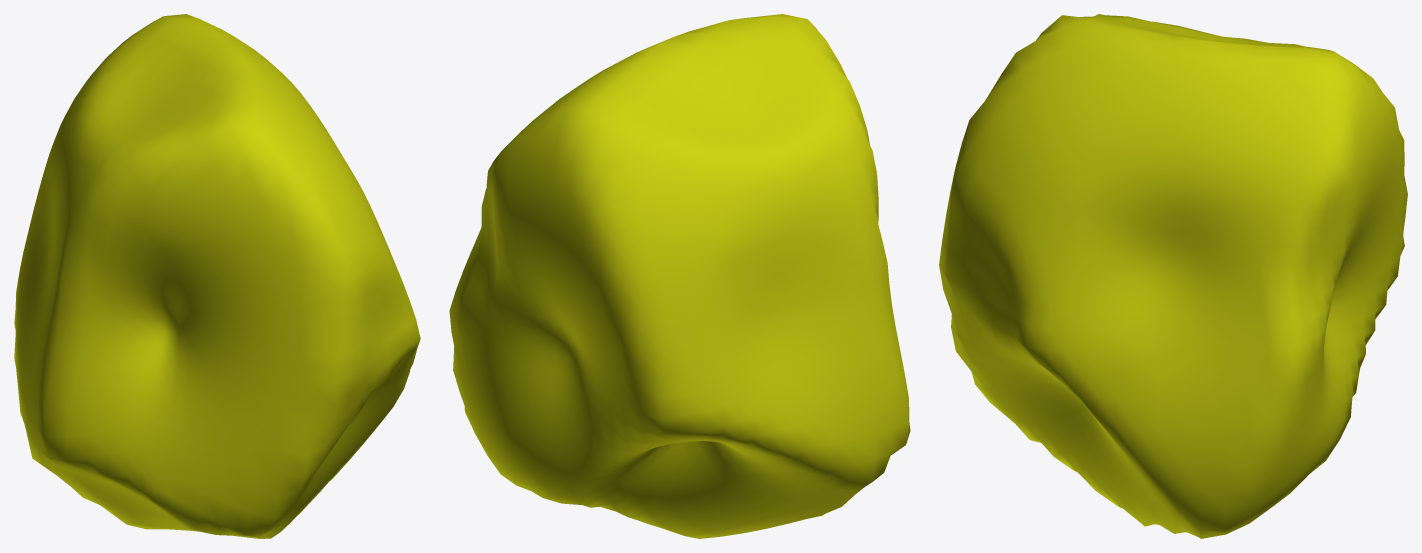
The model's file is Sulfur.obj.
3 renders of one model, left to right at view 1: azimuth 30°, elevation 25°; view 2: azimuth 150°, elevation 25°; view 3: azimuth 270°, elevation 25°, orthographic. The views are drawn at different scales.
Visible parts, largest first — view 1: Cube; view 2: Cube; view 3: Cube.
Part boxes in pixels (x1,y1,x2,y2): Cube: (14,14,420,538); Cube: (449,14,910,538); Cube: (939,14,1407,538).
Size of the model in its own units: 1.12 by 1.36 by 1.21.
